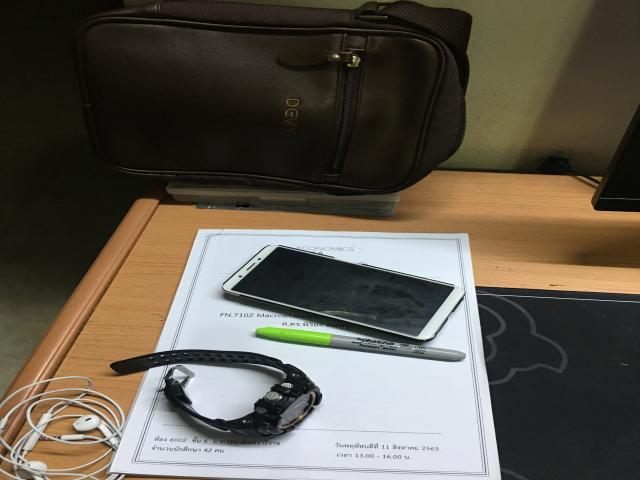Mobile phone: (223, 245, 465, 341)
Pen: (255, 327, 465, 360)
Watch: (112, 350, 322, 437)
paper: (112, 230, 500, 480)
wire: (0, 376, 125, 480)
